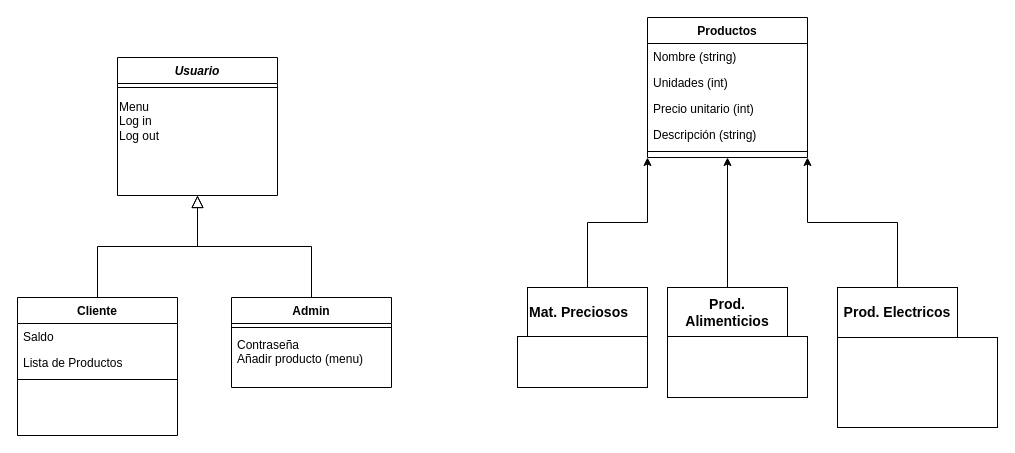
Image size: 1015x453. Some labels were removed from this diagram. The shapes that lost their labels are listed below. From the top down, each one's centre as x and y in pixels, then its label:
point 582,362: Material (string) Peso (double)
point 737,367: Calorias (double Grasas (double) Azucar (double)
point 917,382: Tipo de material (string) Inclusión pilas (bool) Prod. Precargado (bool)
